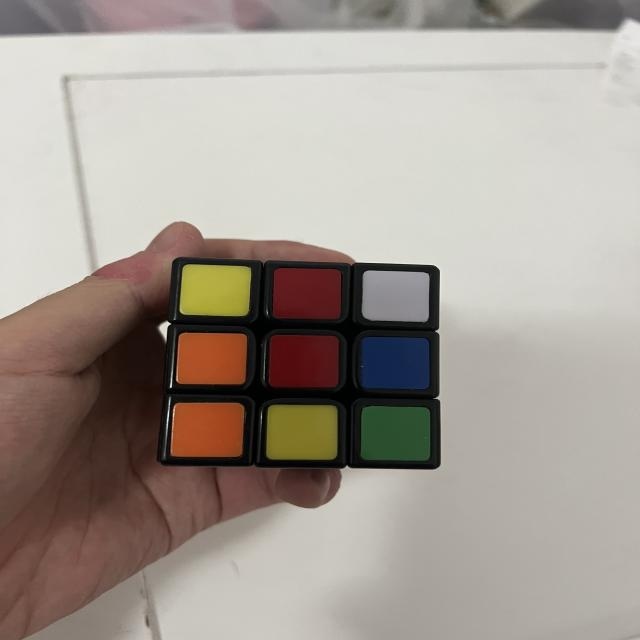blue: (359, 337, 431, 390)
center: (268, 334, 340, 389)
green: (360, 405, 431, 463)
orange: (170, 403, 246, 458), (175, 332, 248, 386)
red: (272, 268, 342, 320)
white: (361, 270, 431, 322)
yellow: (265, 404, 338, 461), (179, 264, 251, 317)
